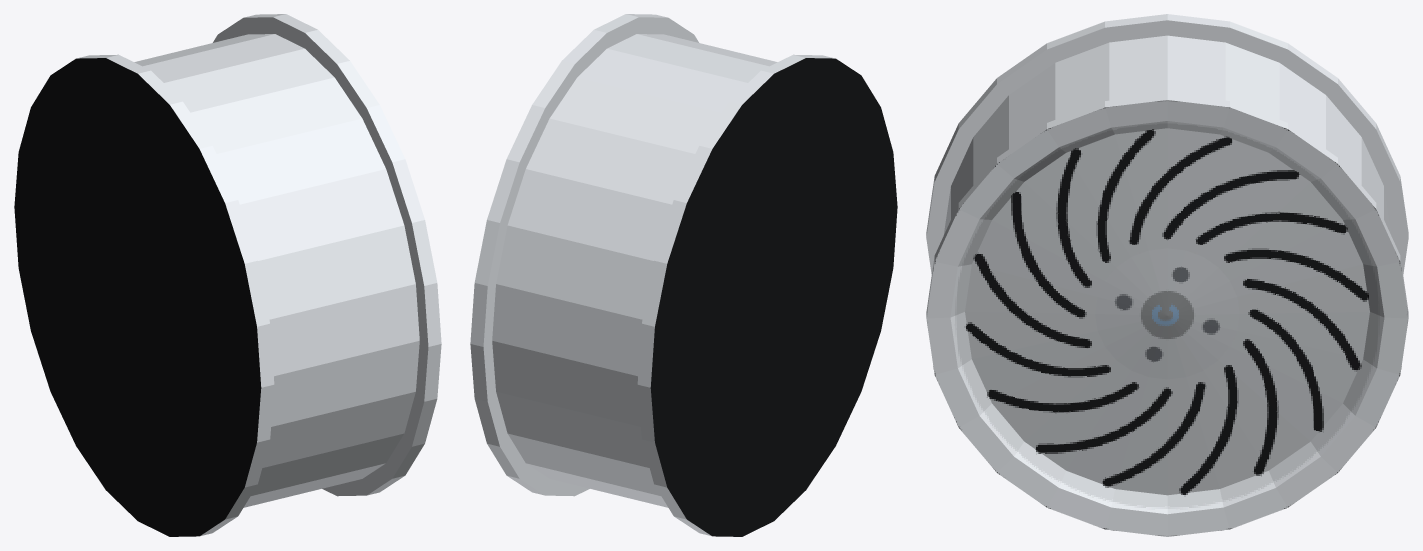
File: catavento_helice_16.glb
The picture shows the model from 3 angles, left to right: view 1: azimuth 30°, elevation 25°; view 2: azimuth 150°, elevation 25°; view 3: azimuth 270°, elevation 25°; orthographic projection. The views are drawn at different scales.
Parts seen in each view (by area): view 1: catavento_helice_16; view 2: catavento_helice_16; view 3: catavento_helice_16.
Boxes of the visible parts, bbox=[...] form: catavento_helice_16: bbox=[14, 14, 441, 536]; catavento_helice_16: bbox=[470, 14, 897, 536]; catavento_helice_16: bbox=[926, 14, 1408, 536].
Size of the model in its own units: 0.192 by 0.4552 by 0.4552.
Materials: 1 (1 with a texture image).
